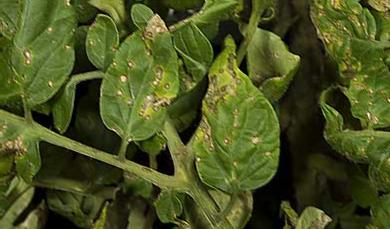Tomato Septoria leaf spot: (196, 28, 287, 192), (93, 12, 186, 139), (0, 0, 80, 118), (347, 54, 390, 131), (186, 0, 261, 28), (285, 199, 338, 229)
